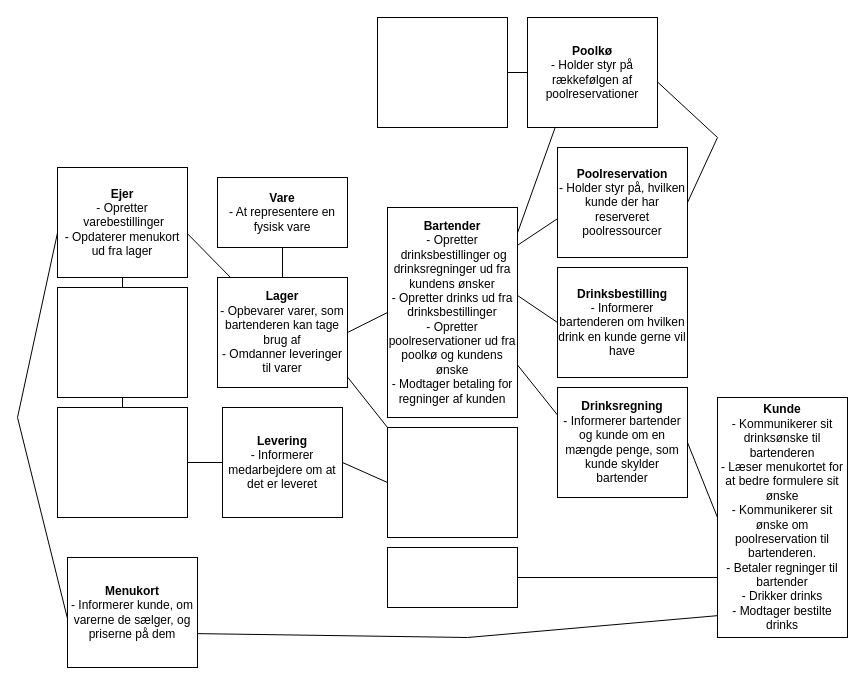
Image size: 865x685. Some labels were removed from this diagram. Each missing label, with the centre of its shape:
"Drinks - At representere en fysisk vare" belongs at point 452,577.
"Leverandør - Omdanner varebestillinger til leveringer" belongs at point 122,462.
"Medarbejdere - Tager imod leveringer og sætter dem på lager" belongs at point 452,482.
"Poolstav-, bord- og kugler (Poolressourcer) - At representere en fysisk vare" belongs at point 442,72.
"Varebestilling - Informerer leverandøren, om hvilke varer der skal leveres." belongs at point 122,342.
